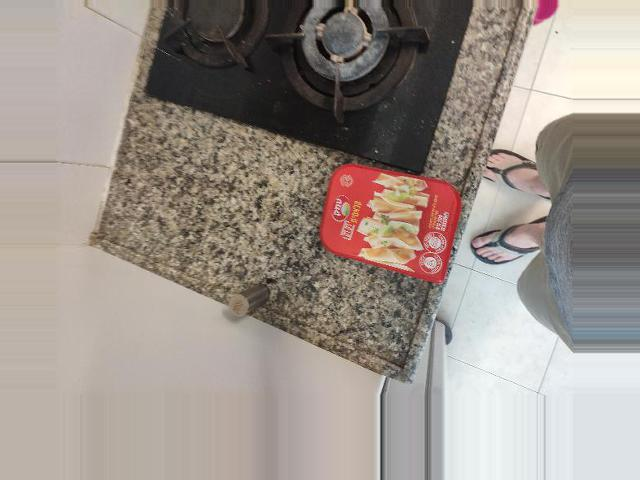cheese: (317, 158, 470, 292)
